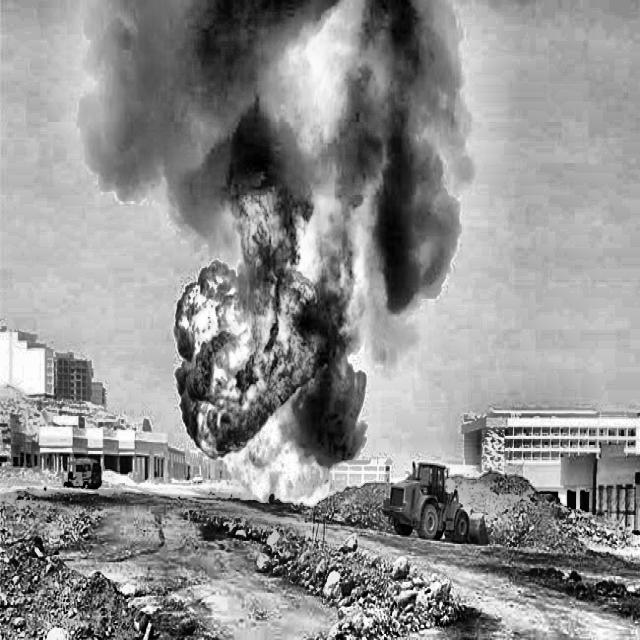fire: (132, 152, 382, 534)
